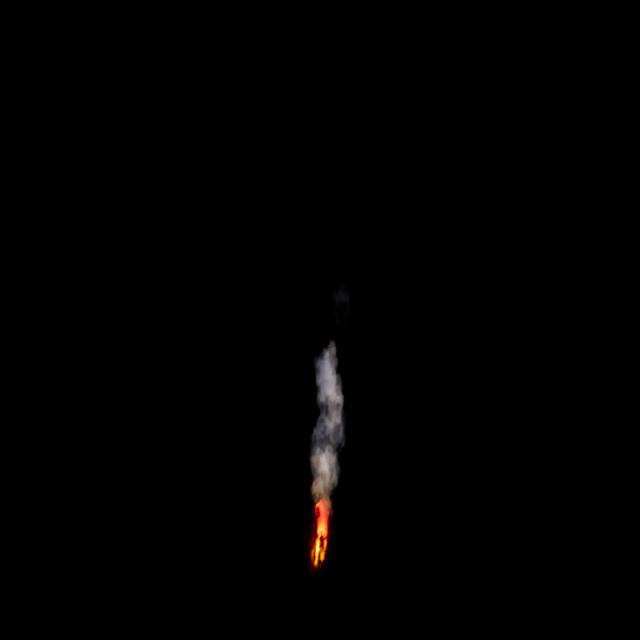fire: (308, 502, 330, 567)
smoke: (310, 342, 344, 505)
